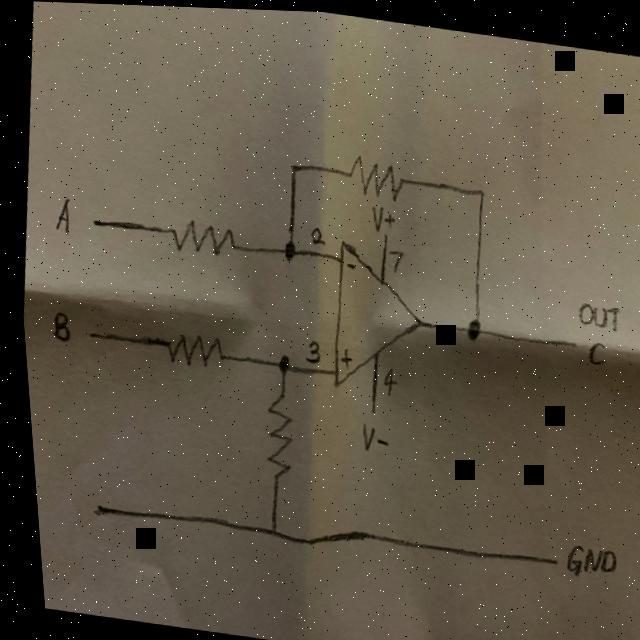junction: (447, 303, 489, 346), (271, 143, 308, 186), (264, 226, 298, 267), (247, 509, 280, 551), (260, 342, 294, 378), (460, 174, 487, 209)
resistor: (250, 383, 297, 481), (150, 323, 227, 378), (335, 144, 409, 200), (157, 211, 236, 262)
terminal: (73, 490, 115, 525), (547, 324, 580, 351), (79, 207, 112, 233), (75, 320, 108, 345), (526, 543, 555, 567)
text: (551, 534, 611, 577), (567, 289, 620, 330), (46, 191, 74, 237), (41, 305, 69, 345), (577, 329, 604, 366), (372, 360, 393, 393), (350, 415, 369, 450), (294, 334, 317, 362), (381, 241, 403, 270), (302, 219, 325, 245), (362, 198, 381, 229), (366, 427, 386, 449), (330, 342, 348, 364), (378, 206, 396, 226), (338, 255, 353, 272)
